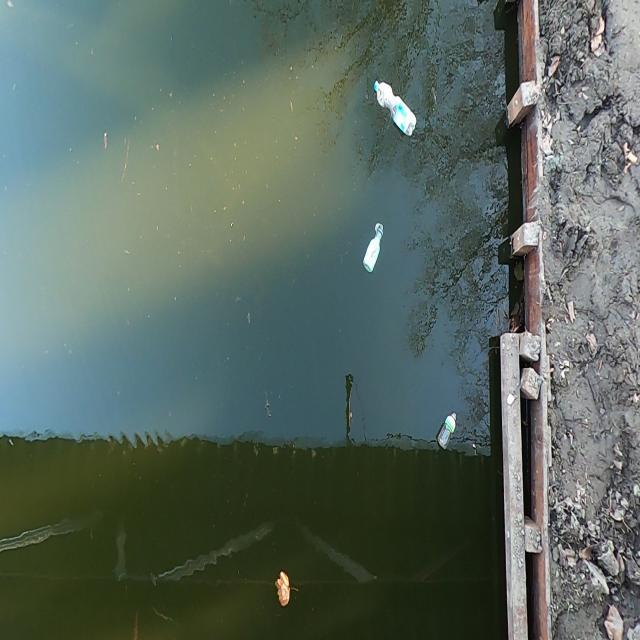Bouteille plastique: (375, 81, 417, 136), (364, 224, 384, 273), (439, 412, 456, 447)
